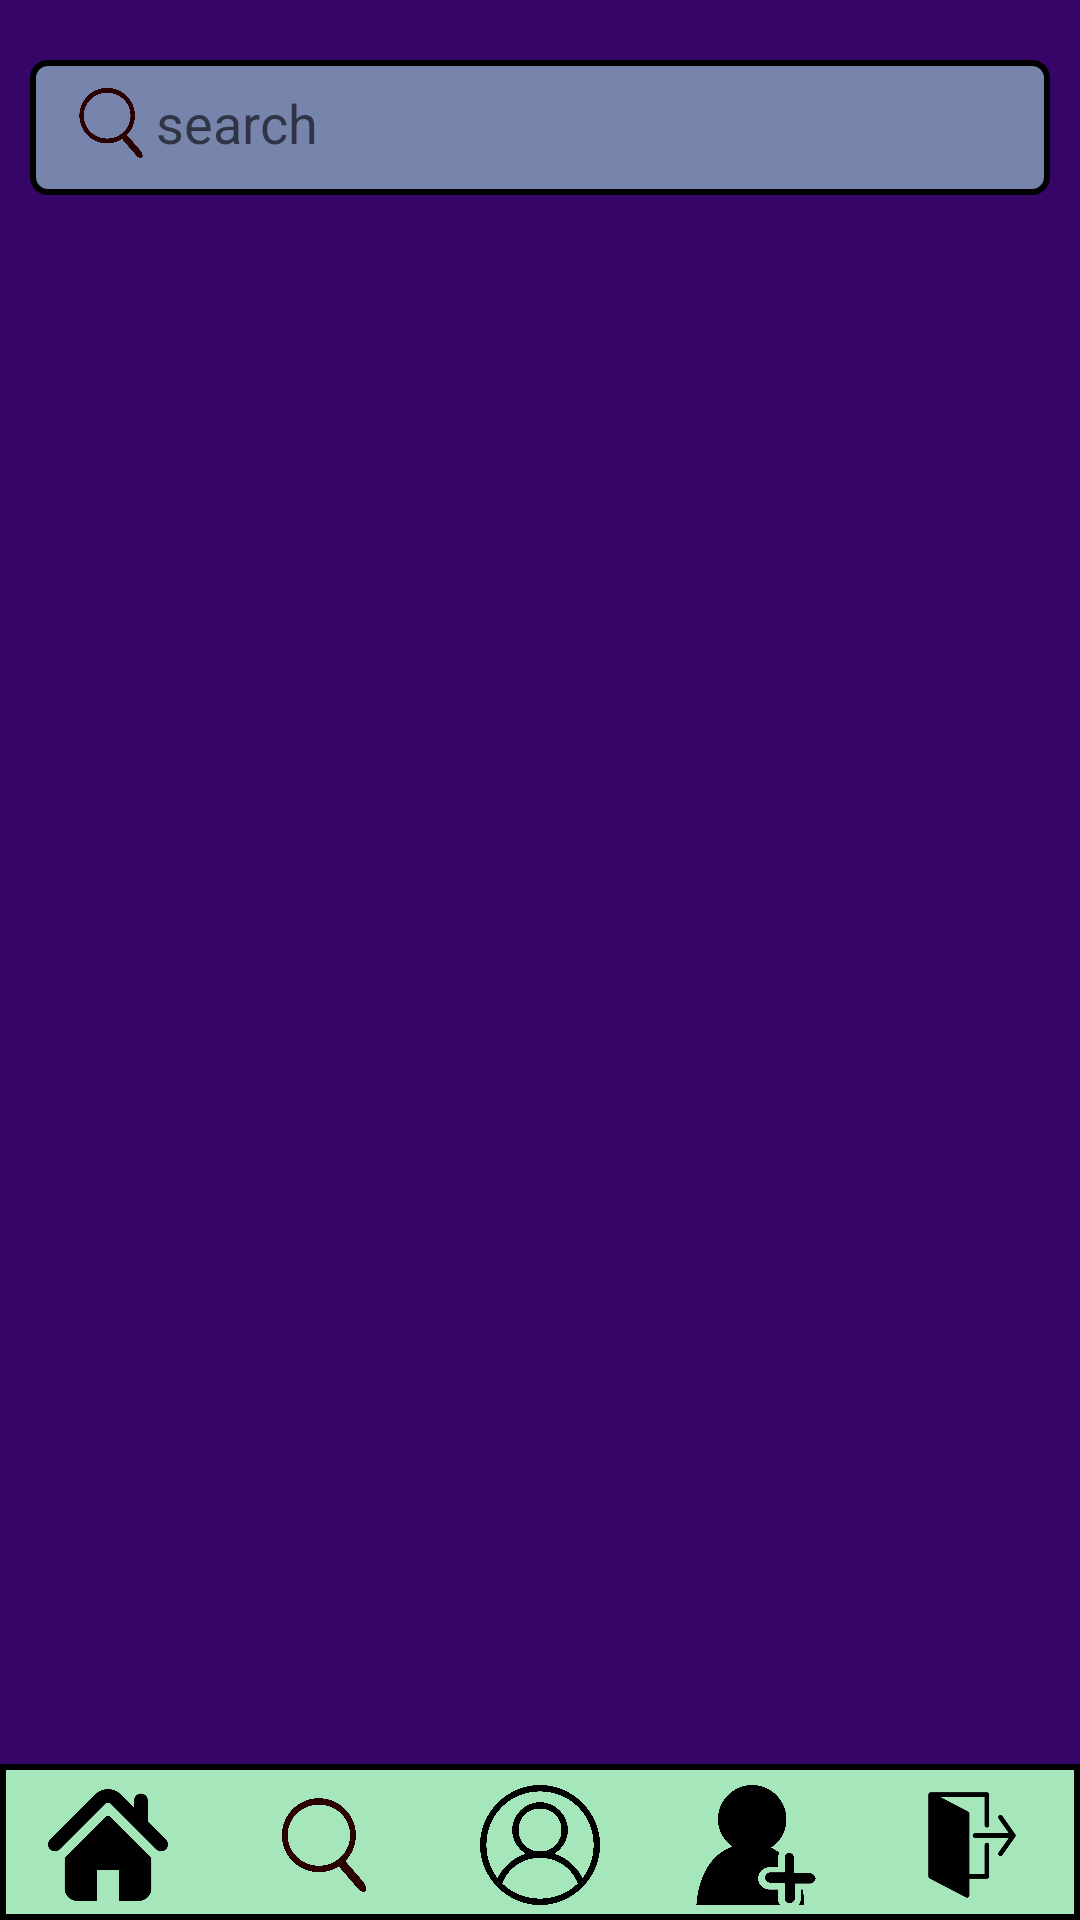

Where icons sit on this 1080w x 1920h app screen, as bbox(x1, y1, x2, y2):
add friend: bbox(696, 1785, 816, 1905)
home: bbox(48, 1789, 168, 1901)
